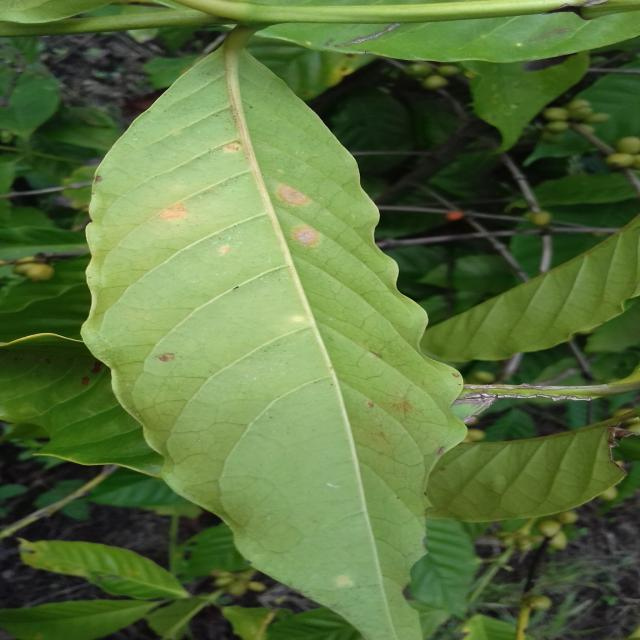Enfermedad-Roya: (79, 31, 468, 640)
